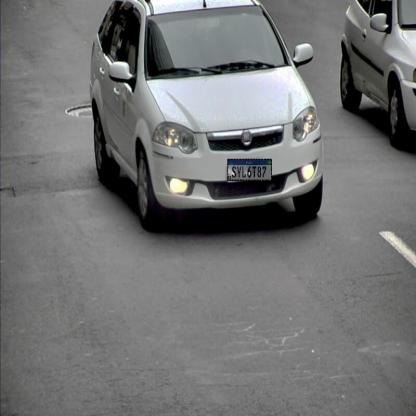PlacaM: (227, 159, 272, 181)
